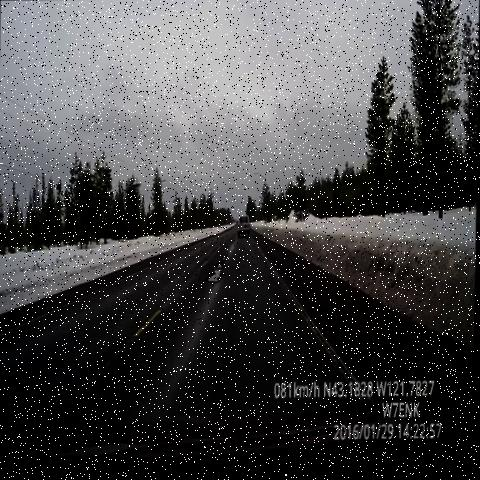pothole: (201, 246, 232, 295)
